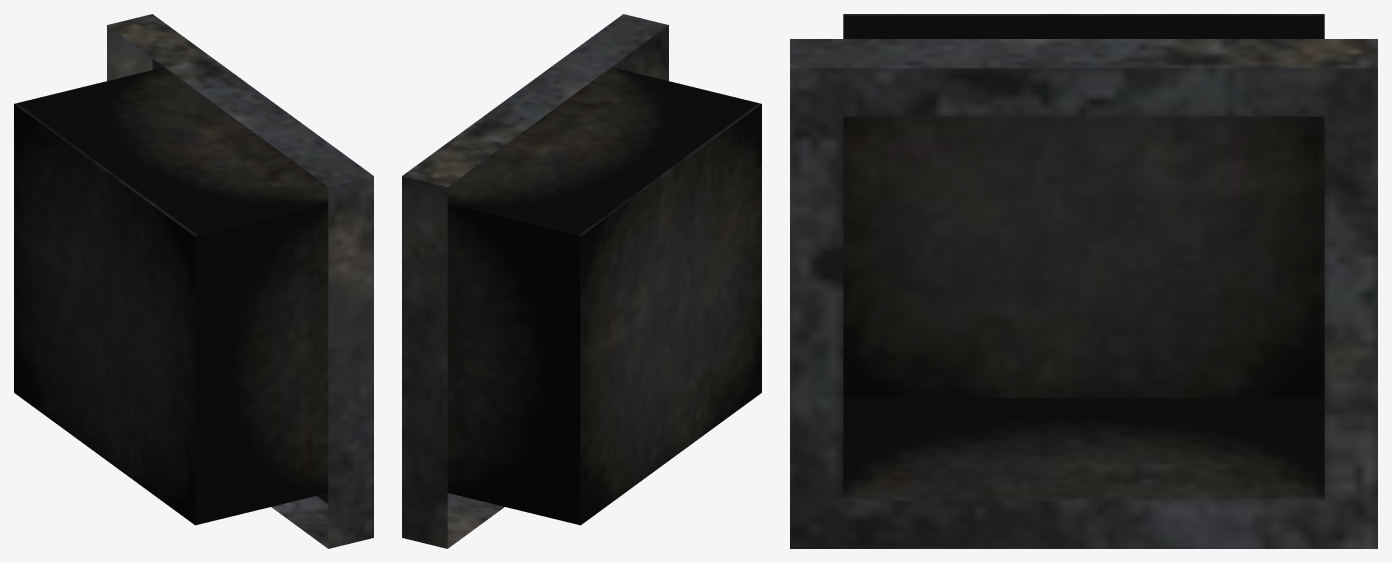
File: WindowTrims.FBX
The picture shows the model from 3 angles, left to right: view 1: azimuth 30°, elevation 25°; view 2: azimuth 150°, elevation 25°; view 3: azimuth 270°, elevation 25°; orthographic projection. The views are drawn at different scales.
Parts seen in each view (by area): view 1: WindowTrims; view 2: WindowTrims; view 3: WindowTrims.
Part boxes in pixels (bbox=[...]): WindowTrims: bbox=[14, 14, 373, 548]; WindowTrims: bbox=[402, 14, 761, 548]; WindowTrims: bbox=[790, 14, 1377, 548].
Size of the model in its own units: 99 by 216 by 239.
